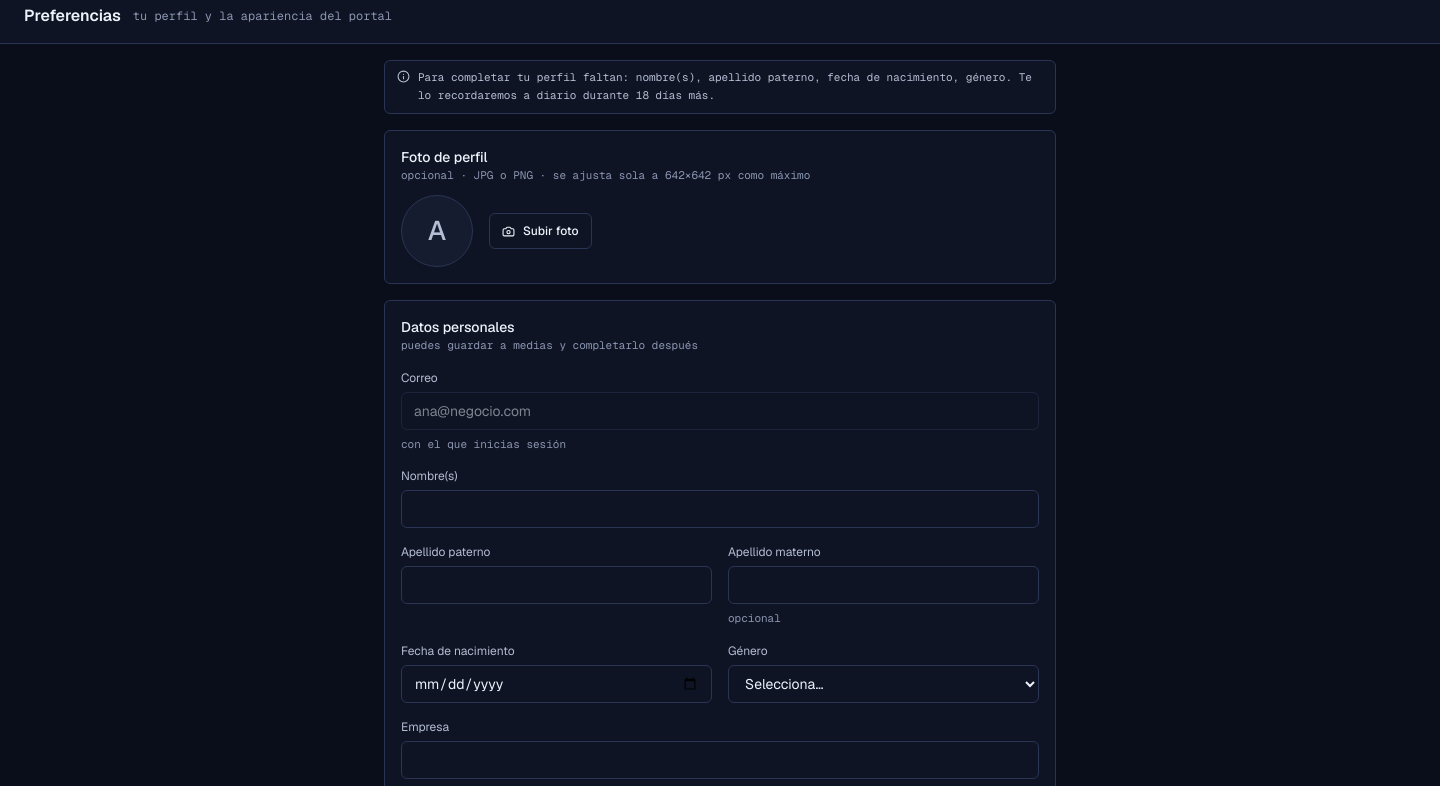
Test: un nombre con números no se deja guardar
This screenshot has width=1440, height=786.
Type "Ana2" into the field labelled "Nombre(s)" at (720, 509), box [401, 490, 1039, 528]
(page scrolled)
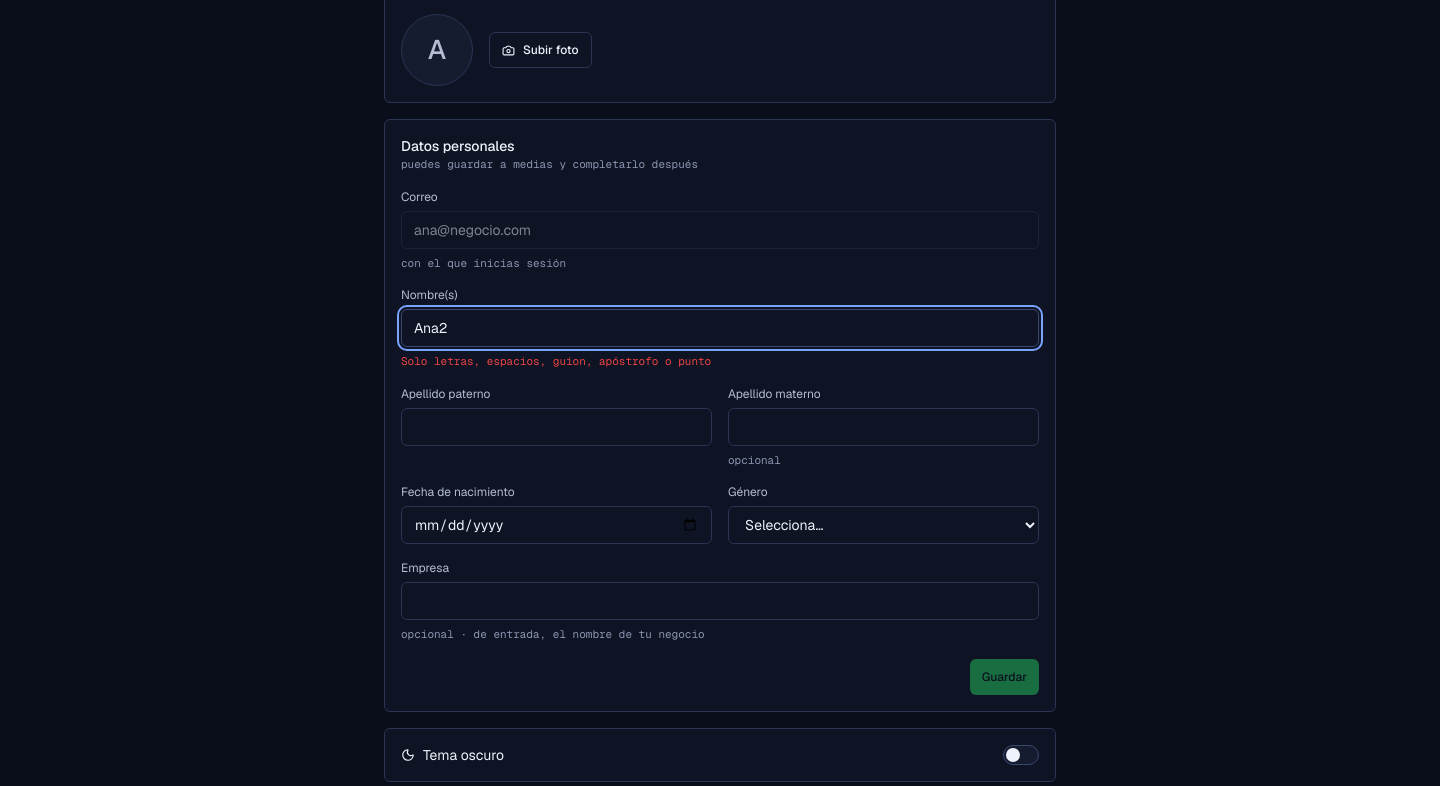
expect the text "Solo letras, espacios, guion, apóstrofo o punto" is shown: met, box [401, 354, 711, 368]
expect the button "Guardar" is disabled: met, box [970, 659, 1039, 695]
